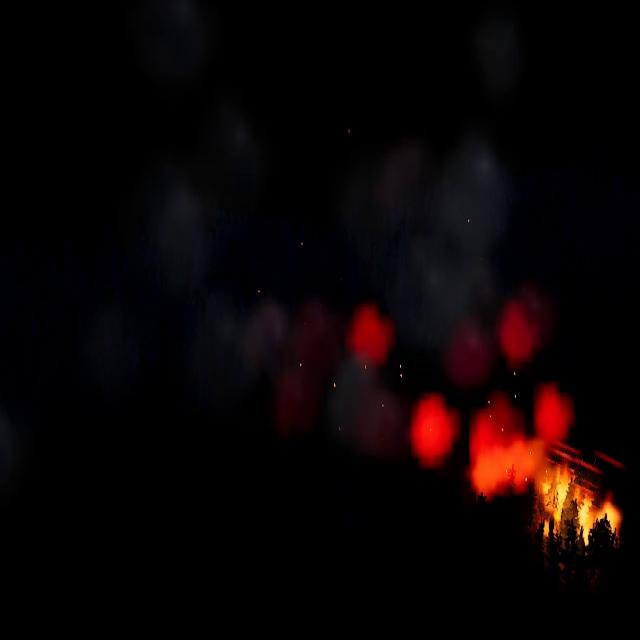fire: (532, 466, 622, 542)
smoke: (233, 141, 573, 512)
